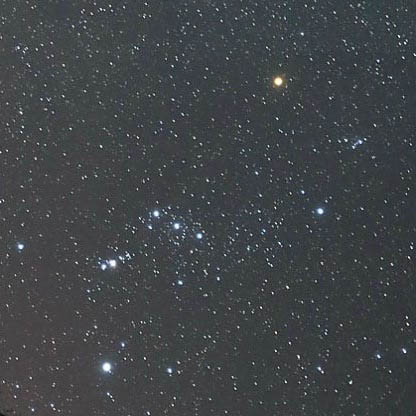Orion: (90, 352, 121, 377), (10, 235, 34, 262), (308, 201, 331, 227), (155, 220, 185, 239), (180, 229, 212, 246), (267, 71, 288, 93), (140, 201, 163, 220)
